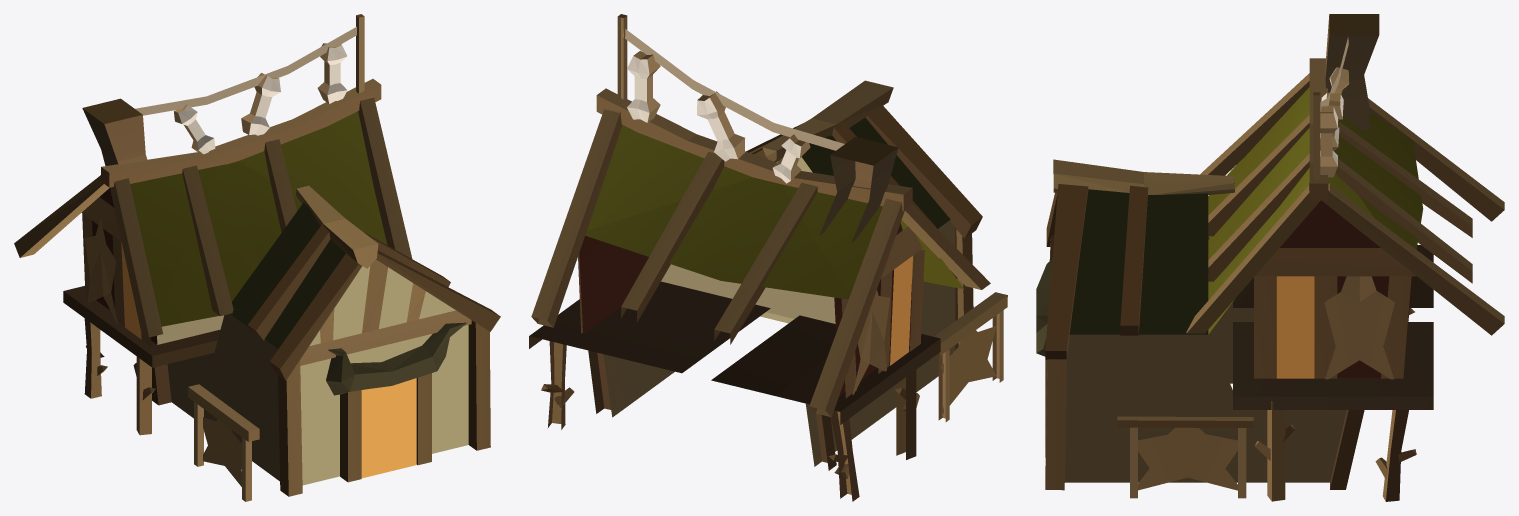
File: building10.fbx
3 views of the same model, side by side, from view 1: azimuth 30°, elevation 25°; view 2: azimuth 150°, elevation 25°; view 3: azimuth 270°, elevation 25° (orthographic). The views are drawn at different scales.
Visible parts, largest first — view 1: building10; view 2: building10; view 3: building10.
Boxes of the visible parts, <box> form: building10: <box>14,14,500,501</box>; building10: <box>529,14,1007,501</box>; building10: <box>1036,14,1504,501</box>.
Bounding box in the file's own units: 1.81 × 2.01 × 2.16.
1 material, 1 textured.
